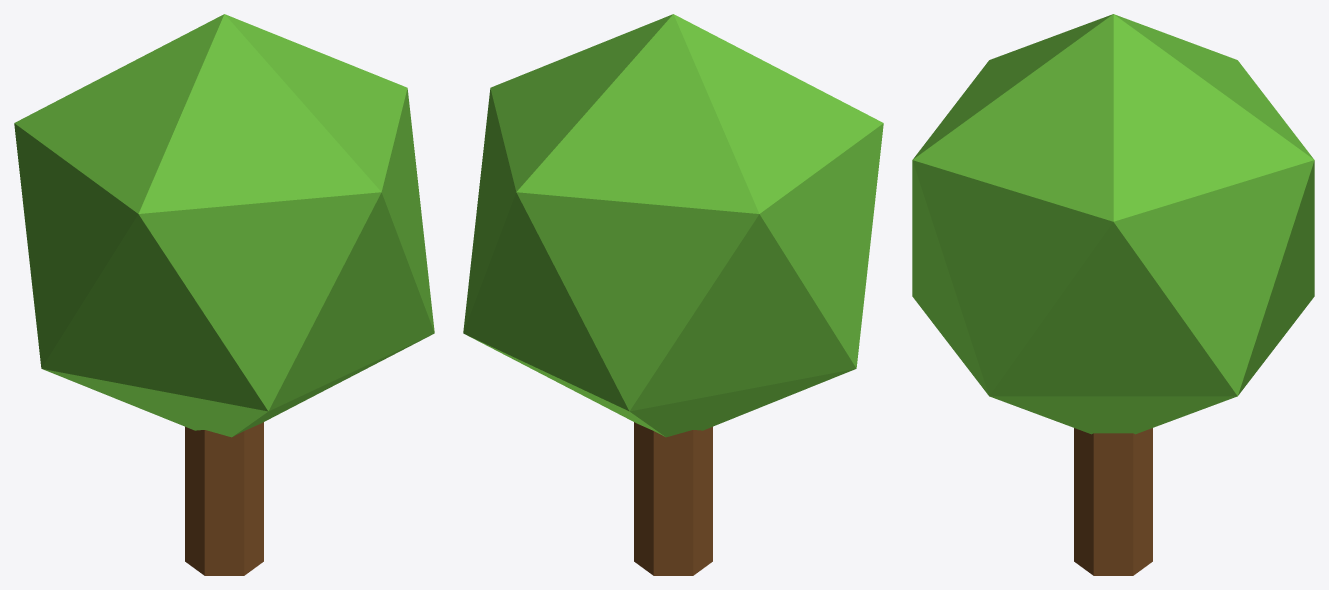
The model's file is tree-b-proto.glb.
3 views of the same model, side by side, from view 1: azimuth 30°, elevation 25°; view 2: azimuth 150°, elevation 25°; view 3: azimuth 270°, elevation 25° (orthographic).
Visible parts, largest first — view 1: tree-b-proto; view 2: tree-b-proto; view 3: tree-b-proto.
Boxes of the visible parts, box(x1,y1,x2,y2) form: tree-b-proto: box(14, 14, 434, 575); tree-b-proto: box(463, 14, 883, 575); tree-b-proto: box(912, 14, 1314, 575).
Size of the model in its own units: 3.22 by 4.6 by 3.06.
